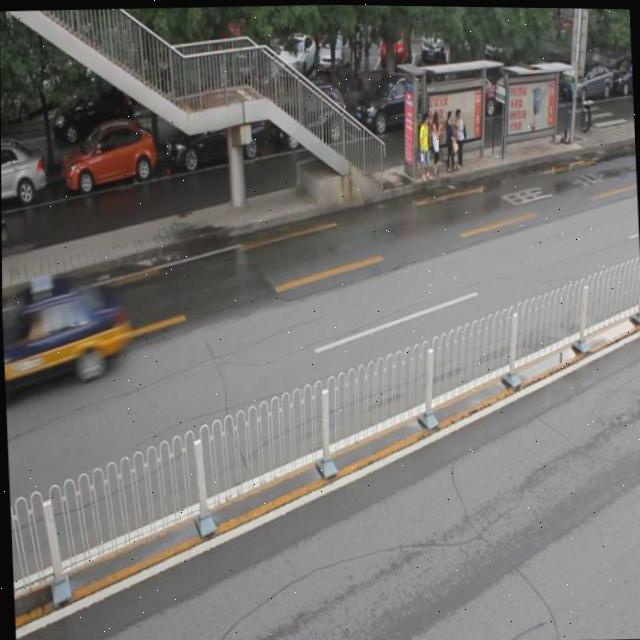car: (2, 273, 129, 394), (164, 83, 265, 168), (58, 121, 155, 193), (351, 65, 431, 130), (270, 83, 346, 147), (1, 142, 46, 212)
